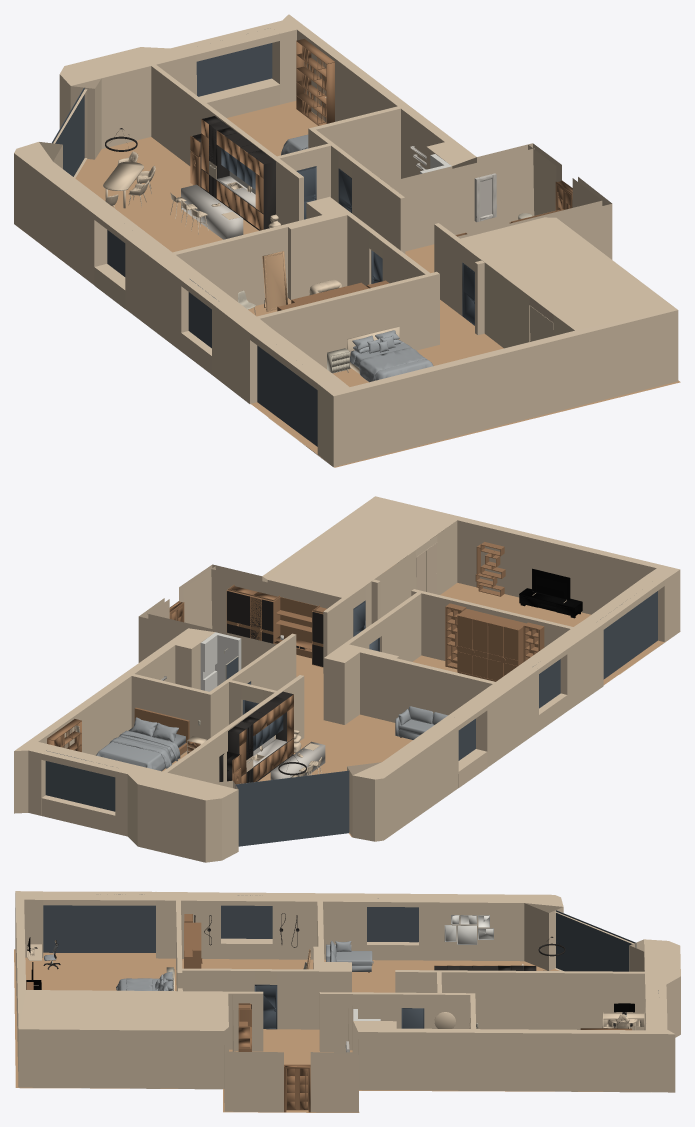
Rendered from AAELS-xr-performance.glb.
3 renders of one model, top to bottom at view 1: azimuth 30°, elevation 25°; view 2: azimuth 150°, elevation 25°; view 3: azimuth 270°, elevation 25°, orthographic. The views are drawn at different scales.
Parts seen in each view (by area): view 1: AAELS_XR_PERFORMANCE_JOINED; view 2: AAELS_XR_PERFORMANCE_JOINED; view 3: AAELS_XR_PERFORMANCE_JOINED.
Boxes of the visible parts, bbox=[...] form: AAELS_XR_PERFORMANCE_JOINED: bbox=[14, 14, 680, 467]; AAELS_XR_PERFORMANCE_JOINED: bbox=[14, 496, 680, 862]; AAELS_XR_PERFORMANCE_JOINED: bbox=[14, 891, 680, 1112].
Size of the model in its own units: 11.66 by 1.95 by 20.07.
